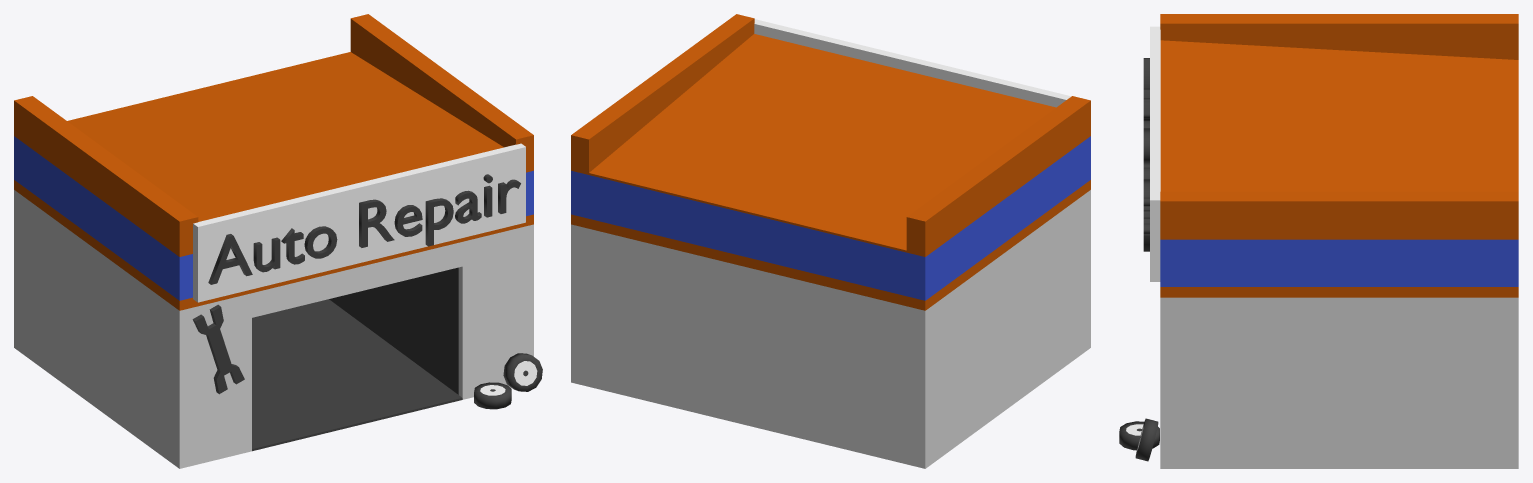
File: AutoRepair.fbx
The picture shows the model from 3 angles, left to right: view 1: azimuth 30°, elevation 25°; view 2: azimuth 150°, elevation 25°; view 3: azimuth 270°, elevation 25°; orthographic projection. The views are drawn at different scales.
Visible parts, largest first — view 1: AutoRepairShop, Text Repair; view 2: AutoRepairShop; view 3: AutoRepairShop, Text Repair.
Part boxes in pixels (x1,y1,x2,y2): AutoRepairShop: (14,14,542,468); Text Repair: (208,174,520,284); AutoRepairShop: (571,14,1090,468); AutoRepairShop: (1119,14,1518,468); Text Repair: (1143,58,1149,251).
Size of the model in its own units: 2790 by 1861 by 2514.
